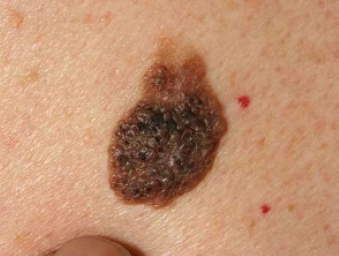seborrheic keratosis: (89, 31, 252, 223)
